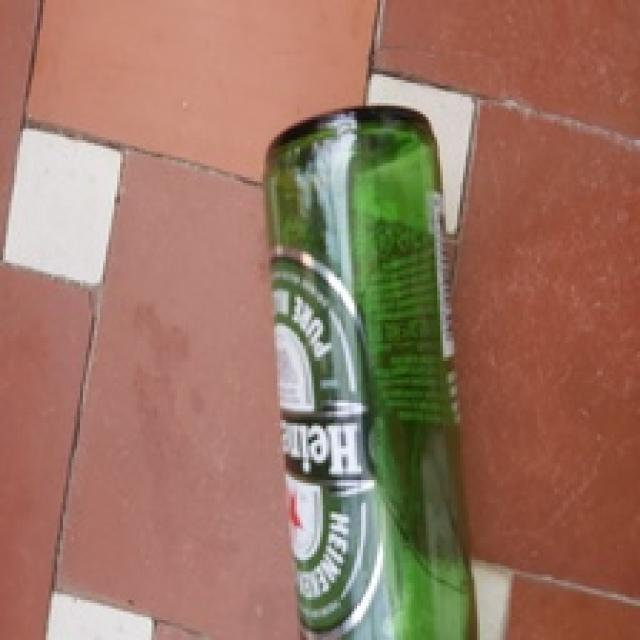Glass: (267, 102, 484, 640)
